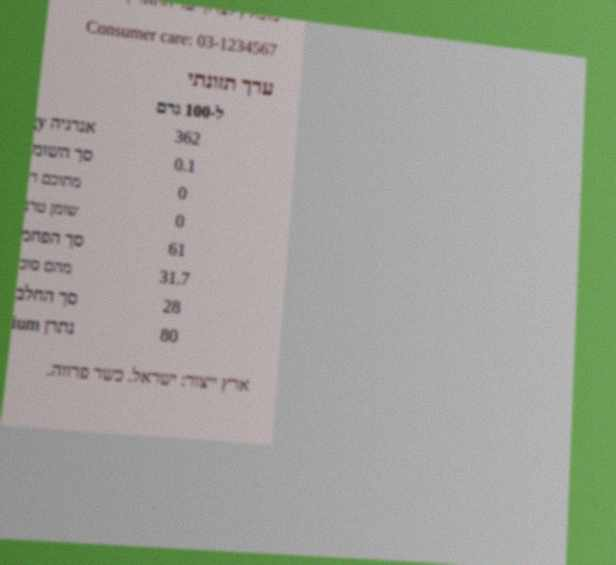carbs: (165, 237, 189, 262)
energy: (171, 125, 204, 151)
fat: (171, 153, 199, 178)
protein: (160, 294, 184, 319)
